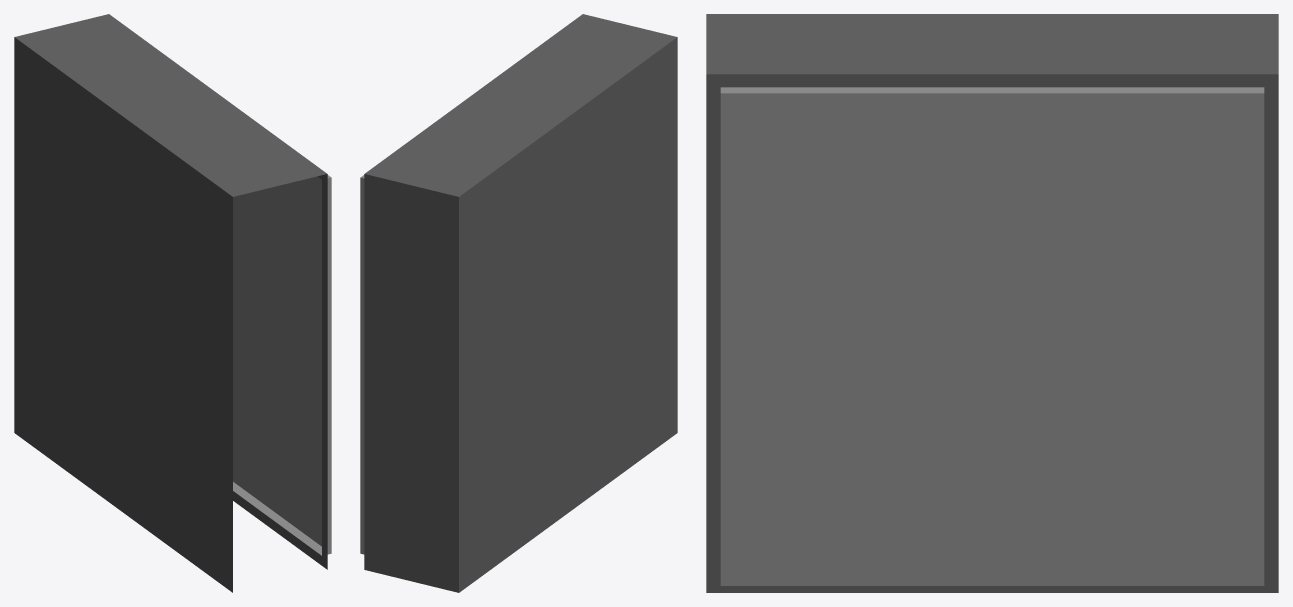
Rendered from Building_Deco_04_Rectangle.FBX.
The picture shows the model from 3 angles, left to right: view 1: azimuth 30°, elevation 25°; view 2: azimuth 150°, elevation 25°; view 3: azimuth 270°, elevation 25°; orthographic projection. The views are drawn at different scales.
Visible parts, largest first — view 1: Building_Deco_04_Rectangle_LOD0; view 2: Building_Deco_04_Rectangle_LOD0; view 3: Building_Deco_04_Rectangle_LOD0.
Part boxes in pixels (x1,y1,x2,y2): Building_Deco_04_Rectangle_LOD0: [14, 14, 331, 592]; Building_Deco_04_Rectangle_LOD0: [360, 14, 677, 592]; Building_Deco_04_Rectangle_LOD0: [706, 14, 1278, 592].
Size of what is drawn, in the model's own units: 49.5 by 180 by 180.
